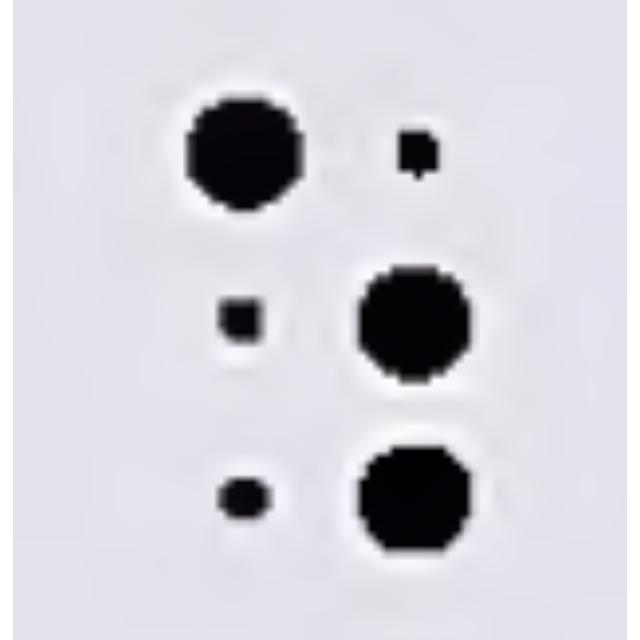one_cell_part_word_an: (182, 92, 472, 554)
